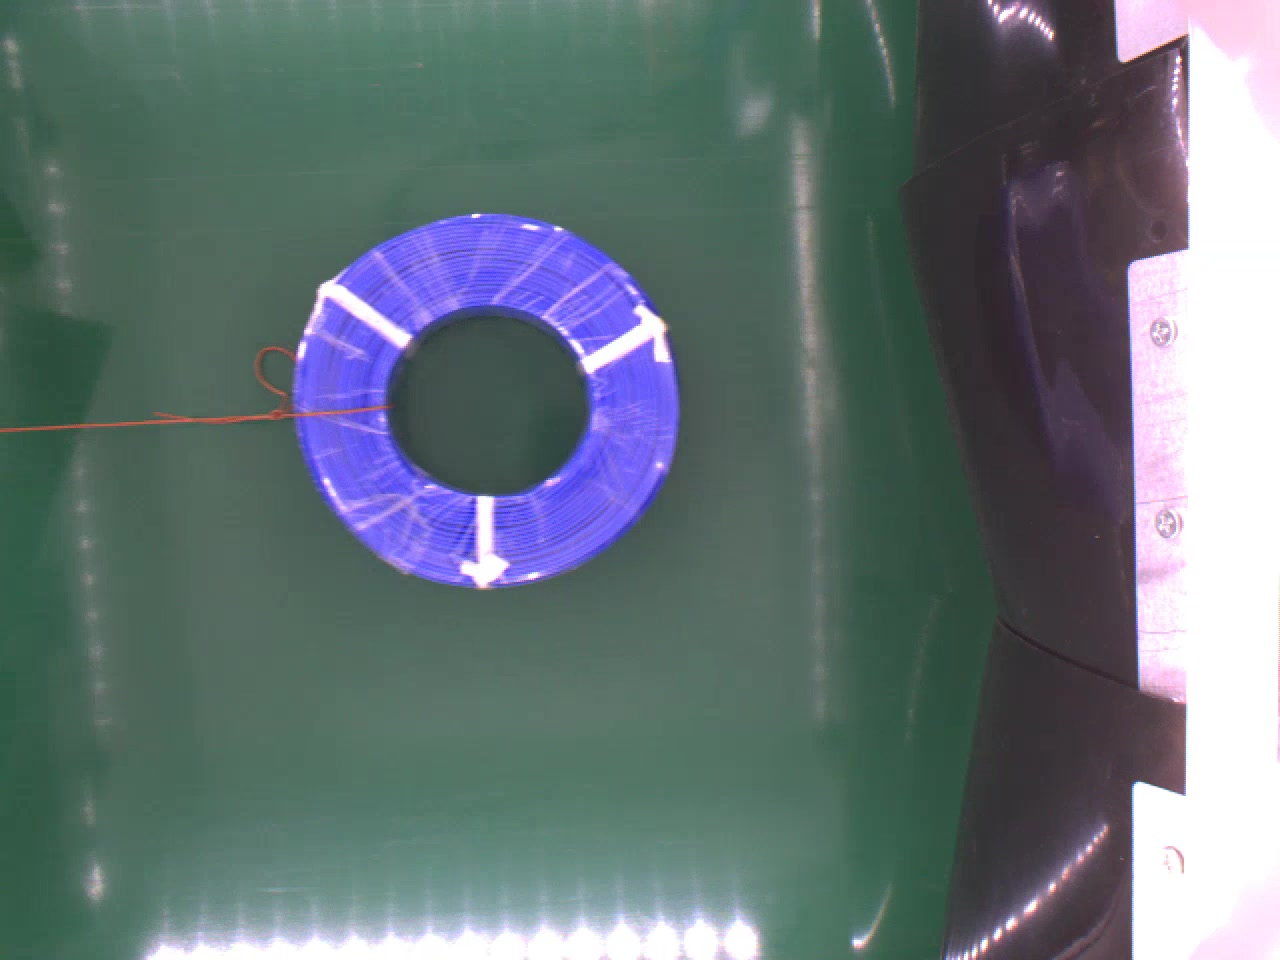blue: (291, 209, 683, 587)
